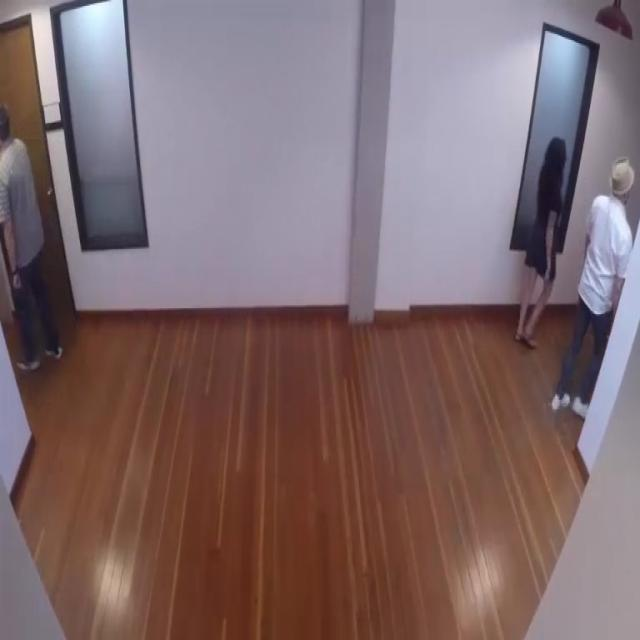Stupid: (551, 156, 634, 419), (0, 101, 63, 372), (513, 136, 566, 348)
